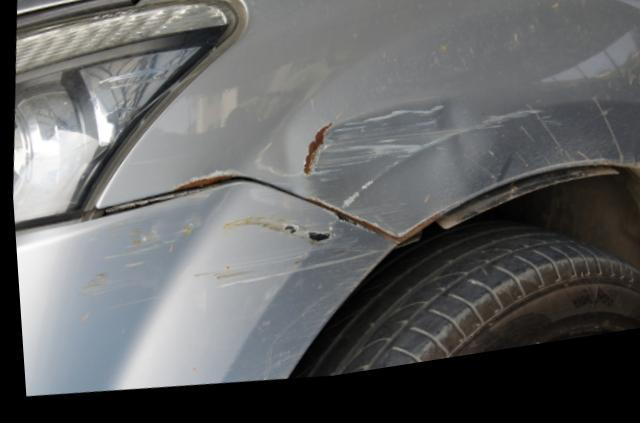dent: (437, 110, 470, 194)
scratch: (74, 205, 381, 388), (295, 117, 440, 216), (478, 121, 574, 147)
